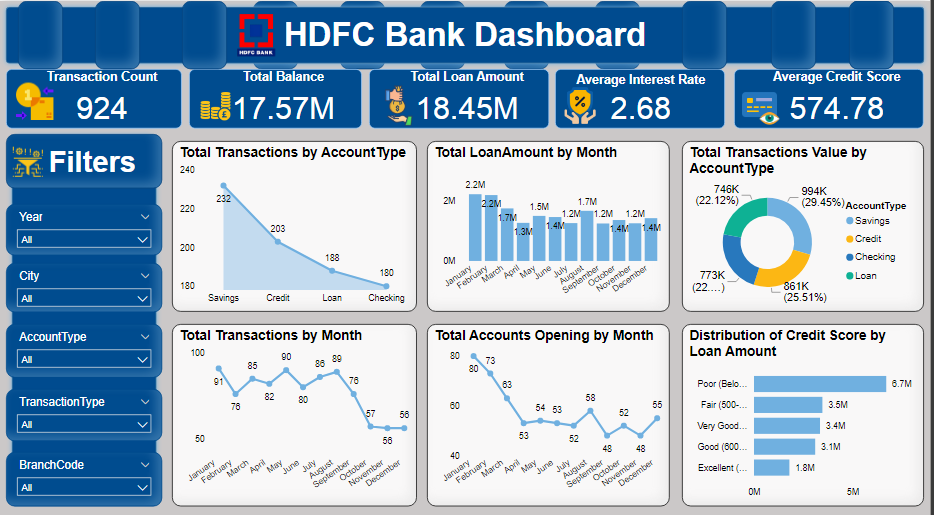

What the dashboard file says about the page in this screenshot:
{"tool":"powerbi","page":{"name":"Dashboard","canvas":[1280,720],"ordinal":0},"visuals":[{"type":"shape","title":"Filters","box":[1167.9,0,62.4,93.5],"z":2500},{"type":"shape","title":"Filters","box":[819.2,0,62.4,93.5],"z":3000},{"type":"shape","title":"Filters","box":[693.1,0,62.4,93.5],"z":4000},{"type":"shape","title":"Filters","box":[578.3,0,62.4,93.5],"z":5000},{"type":"shape","title":"Filters","box":[467.7,0,62.4,93.5],"z":6000},{"type":"shape","title":"Filters","box":[348.7,0,62.4,93.5],"z":7000},{"type":"shape","box":[0,0,1279.8,93.5],"z":9000},{"type":"shape","box":[8.5,175.7,215.4,520.2],"z":10000},{"type":"shape","title":"Filters","box":[8.5,182.8,215.4,75.1],"z":11000},{"type":"card","title":"Transaction Count","fields":{"Values":["CountNonNull(Transaction Info.TransactionID)"]},"box":[8.5,93.5,242.4,82.2],"z":12000},{"type":"card","title":"Total Balance","fields":{"Values":["Sum(Account Info.Balance)"]},"box":[260.8,93.5,238.1,82.2],"z":13000},{"type":"card","title":"Total Loan Amount","fields":{"Values":["Sum(Account Info.LoanAmount)"]},"box":[507.4,93.5,248,82.2],"z":14000},{"type":"slicer","fields":{"Values":["Account Info.AccountType"]},"box":[8.5,445,215.4,73.7],"z":15000},{"type":"slicer","fields":{"Values":["Transaction Info.BranchCode"]},"box":[8.5,620.8,215.4,75.1],"z":16000},{"type":"slicer","fields":{"Values":["Transaction Info.TransactionType"]},"box":[8.5,534.3,215.4,72.3],"z":17000},{"type":"lineChart","title":"Total Accounts Opening by Month","fields":{"Category":["Account Info.OpeningDate.Variation.Date Hierarchy.Month"],"Y":["CountNonNull(Account Info.AccountNumber)"]},"box":[588.2,445,334.5,250.9],"z":18000},{"type":"lineChart","title":"Total Transactions by Month","fields":{"Y":["CountNonNull(Transaction Info.TransactionID)"],"Category":["Transaction Info.TransactionDate.Variation.Date Hierarchy.Month"]},"box":[236.7,445,337.3,250.9],"z":19000},{"type":"barChart","title":"Distribution of Credit Score by Loan Amount","fields":{"Category":["Account Info.CreditScore_Buckets"],"Y":["Sum(Account Info.LoanAmount)"]},"box":[938.3,445,333.1,250.9],"z":20000},{"type":"columnChart","title":"Total LoanAmount by Month","fields":{"Y":["Sum(Account Info.LoanAmount)"],"Category":["Account Info.OpeningDate.Variation.Date Hierarchy.Month"]},"box":[588.2,192.8,334.5,235.3],"z":21000},{"type":"areaChart","title":"Total Transactions by AccountType","fields":{"Category":["Account Info.AccountType"],"Y":["Account Info.TotalTransactionVolume"]},"box":[236.7,192.8,337.3,235.3],"z":22000},{"type":"donutChart","title":"Total Transactions Value by AccountType","fields":{"Category":["Account Info.AccountType"],"Y":["Transaction Info.TotalTransactionValue"]},"box":[938.3,192.8,333.1,235.3],"z":23000},{"type":"card","title":"Average Interest Rate","fields":{"Values":["Avg(Account Info.InterestRate)"]},"box":[763.9,93.5,233.9,82.2],"z":24000},{"type":"slicer","fields":{"Values":["Account Info.OpeningDate.Variation.Date Hierarchy.Year"]},"box":[8.5,279.2,215.4,70.9],"z":25000},{"type":"slicer","fields":{"Values":["Account Info.City"]},"box":[8.5,360,215.4,68],"z":26000},{"type":"card","title":"Average Credit Score","fields":{"Values":["Avg(Account Info.CreditScore)"]},"box":[1010.6,93.5,260.8,82.2],"z":27000},{"type":"image","box":[997.8,110.6,95,65.2],"z":28000},{"type":"image","box":[763.9,110.6,68,66.6],"z":29000},{"type":"image","box":[507.4,110.6,80.8,68],"z":30000},{"type":"image","box":[270.7,107.7,51,72.3],"z":31000},{"type":"image","box":[8.5,100.6,78,75.1],"z":32000},{"type":"image","box":[8.5,194.2,59.5,53.9],"z":33000},{"type":"image","box":[287.7,9.9,129,73.7],"z":34000},{"type":"shape","title":"Filters","box":[24.1,0,62.4,93.5],"z":35000},{"type":"shape","title":"Filters","box":[130.4,0,62.4,93.5],"z":37000},{"type":"shape","title":"Filters","box":[250.9,0,62.4,93.5],"z":38000},{"type":"shape","title":"Filters","box":[1167.9,0,62.4,93.5],"z":38500},{"type":"shape","title":"Filters","box":[1061.6,0,62.4,93.5],"z":38501},{"type":"shape","title":"Filters","box":[938.3,0,62.4,93.5],"z":38502}]}

Visuals, with their boxes in screenshot pixels (x1, y1, x2, y2), scaled from the page's 1280x720 canvas onto the 934x515 screenshot:
"Filters" shape: Rect(852, 0, 898, 67)
"Filters" shape: Rect(598, 0, 643, 67)
"Filters" shape: Rect(506, 0, 551, 67)
"Filters" shape: Rect(422, 0, 468, 67)
"Filters" shape: Rect(341, 0, 387, 67)
"Filters" shape: Rect(254, 0, 300, 67)
shape: Rect(0, 0, 933, 67)
shape: Rect(6, 126, 163, 498)
"Filters" shape: Rect(6, 131, 163, 184)
"Transaction Count" card: Rect(6, 67, 183, 126)
"Total Balance" card: Rect(190, 67, 364, 126)
"Total Loan Amount" card: Rect(370, 67, 551, 126)
slicer - Account Info.AccountType: Rect(6, 318, 163, 371)
slicer - Transaction Info.BranchCode: Rect(6, 444, 163, 498)
slicer - Transaction Info.TransactionType: Rect(6, 382, 163, 434)
"Total Accounts Opening by Month" lineChart: Rect(429, 318, 673, 498)
"Total Transactions by Month" lineChart: Rect(173, 318, 419, 498)
"Distribution of Credit Score by Loan Amount" barChart: Rect(685, 318, 928, 498)
"Total LoanAmount by Month" columnChart: Rect(429, 138, 673, 306)
"Total Transactions by AccountType" areaChart: Rect(173, 138, 419, 306)
"Total Transactions Value by AccountType" donutChart: Rect(685, 138, 928, 306)
"Average Interest Rate" card: Rect(557, 67, 728, 126)
slicer - Account Info.OpeningDate.Variation.Date Hierarchy.Year: Rect(6, 200, 163, 250)
slicer - Account Info.City: Rect(6, 258, 163, 306)
"Average Credit Score" card: Rect(737, 67, 928, 126)
image: Rect(728, 79, 797, 126)
image: Rect(557, 79, 607, 127)
image: Rect(370, 79, 429, 128)
image: Rect(198, 77, 235, 129)
image: Rect(6, 72, 63, 126)
image: Rect(6, 139, 50, 177)
image: Rect(210, 7, 304, 60)
"Filters" shape: Rect(18, 0, 63, 67)
"Filters" shape: Rect(95, 0, 141, 67)
"Filters" shape: Rect(183, 0, 229, 67)
"Filters" shape: Rect(852, 0, 898, 67)
"Filters" shape: Rect(775, 0, 820, 67)
"Filters" shape: Rect(685, 0, 730, 67)
